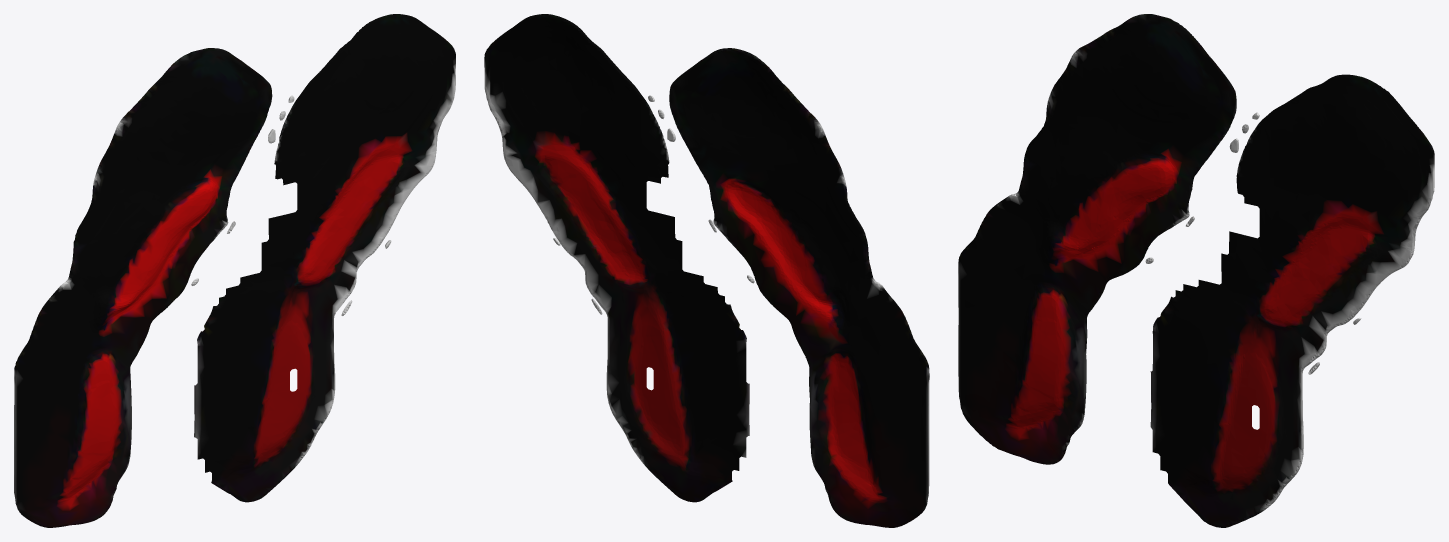
Rendered from dragonskin_boots.glb.
3 renders of one model, left to right at view 1: azimuth 30°, elevation 25°; view 2: azimuth 150°, elevation 25°; view 3: azimuth 330°, elevation 25°, orthographic. The views are drawn at different scales.
Visible parts, largest first — view 1: geometry_0; view 2: geometry_0; view 3: geometry_0.
Boxes of the visible parts, x1,y1,x2,y2 form: geometry_0: (14, 14, 455, 527); geometry_0: (484, 14, 929, 527); geometry_0: (958, 14, 1434, 527).
Size of the model in its own units: 0.6875 by 0.6888 by 0.016.
